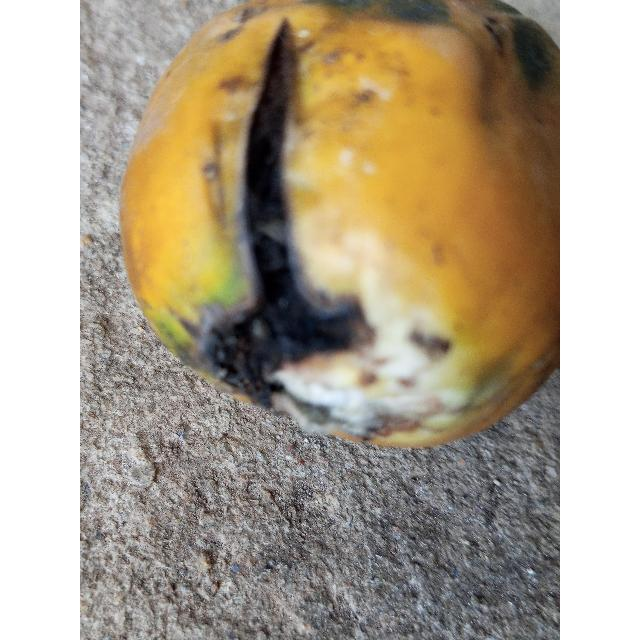damaged: (121, 0, 560, 446)
